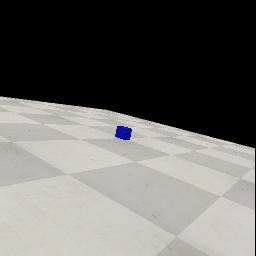box: (115, 126, 132, 140)
